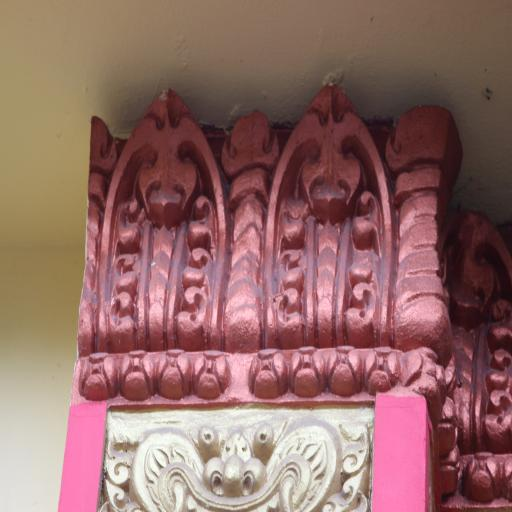hoa: (402, 343, 442, 402), (288, 343, 328, 400), (118, 346, 156, 405), (247, 346, 288, 400), (193, 345, 231, 402), (76, 350, 116, 402), (362, 344, 400, 398), (154, 343, 190, 399), (326, 342, 362, 397)
la: (267, 81, 394, 347), (94, 93, 227, 347), (442, 208, 512, 455), (225, 106, 274, 349)
